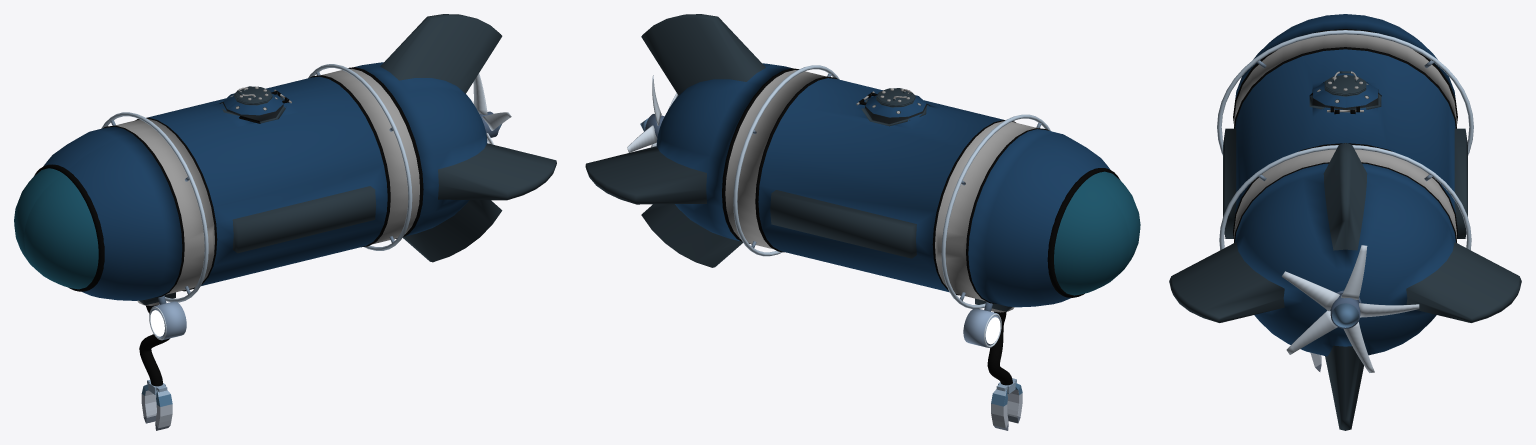
The model's file is Tier_2.glb.
3 renders of one model, left to right at view 1: azimuth 30°, elevation 25°; view 2: azimuth 150°, elevation 25°; view 3: azimuth 270°, elevation 25°, orthographic. The views are drawn at different scales.
Visible parts, largest first — view 1: Hull Tier 2, Claw Tier 2, Light Tier 2, Propeller Tier 2; view 2: Hull Tier 2, Claw Tier 2, Light Tier 2, Propeller Tier 2; view 3: Hull Tier 2, Propeller Tier 2.
Part boxes in pixels (<box>): Hull Tier 2: <box>14,14,556,305</box>; Claw Tier 2: <box>139,305,172,430</box>; Light Tier 2: <box>149,295,186,340</box>; Propeller Tier 2: <box>473,73,511,144</box>; Hull Tier 2: <box>585,14,1140,312</box>; Claw Tier 2: <box>987,312,1022,430</box>; Light Tier 2: <box>963,301,1001,347</box>; Propeller Tier 2: <box>627,75,678,152</box>; Hull Tier 2: <box>1169,14,1521,430</box>; Propeller Tier 2: <box>1282,245,1419,372</box>.
Size of the model in its own units: 28.11 by 18.83 by 15.84.
